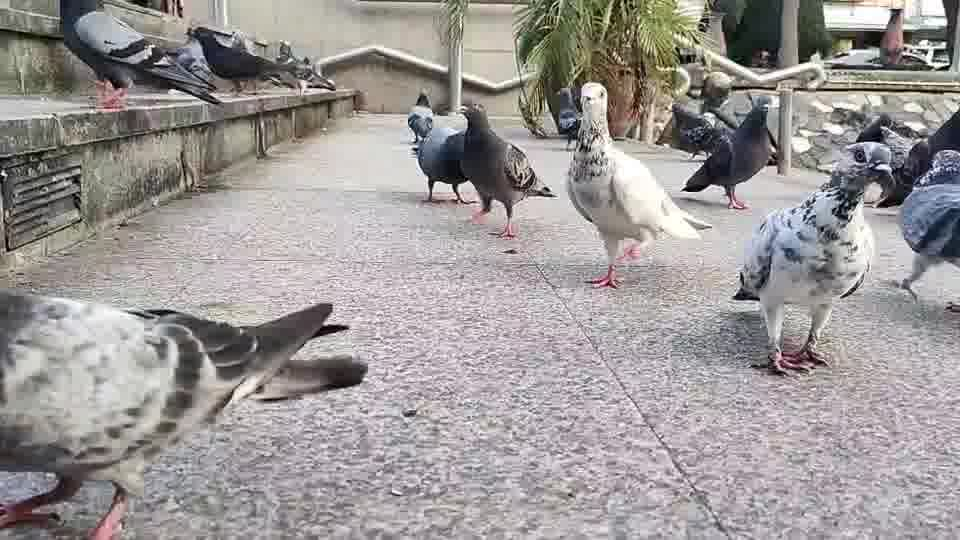Pigeon: (0, 285, 367, 538), (730, 140, 897, 376), (565, 81, 712, 289), (64, 9, 223, 109), (452, 102, 558, 240), (679, 92, 778, 210), (894, 147, 959, 310), (186, 25, 303, 95), (409, 125, 474, 204), (274, 39, 336, 92), (555, 86, 582, 150), (406, 92, 434, 143)
